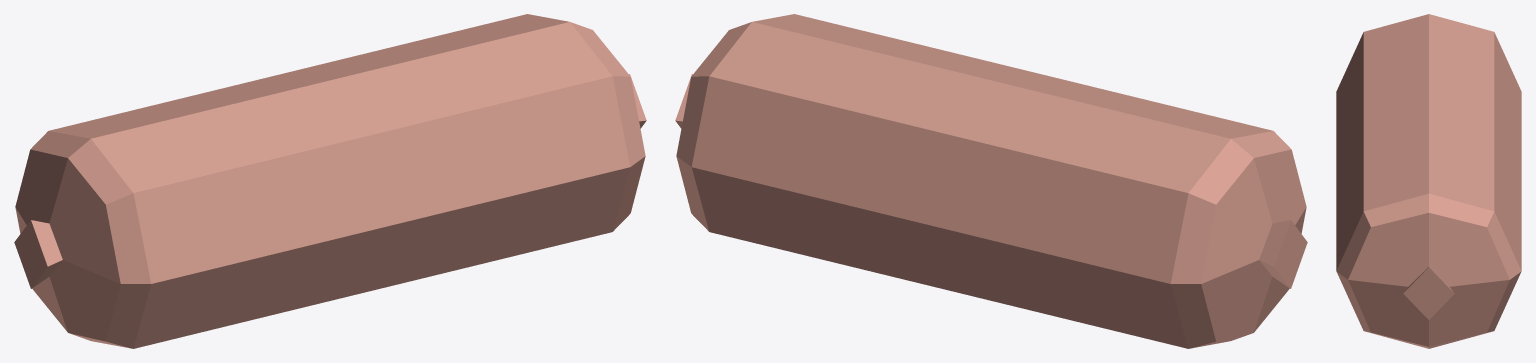
File: casedSausage.fbx
The picture shows the model from 3 angles, left to right: view 1: azimuth 30°, elevation 25°; view 2: azimuth 150°, elevation 25°; view 3: azimuth 270°, elevation 25°; orthographic projection. The views are drawn at different scales.
Visible parts, largest first — view 1: casedSausage; view 2: casedSausage; view 3: casedSausage.
Part boxes in pixels (x1,y1,x2,y2): casedSausage: (14, 14, 646, 348); casedSausage: (675, 14, 1307, 348); casedSausage: (1336, 14, 1521, 348).
Size of the model in its own units: 24.24 by 7.82 by 8.45.
Materials: 1 (1 with a texture image).
